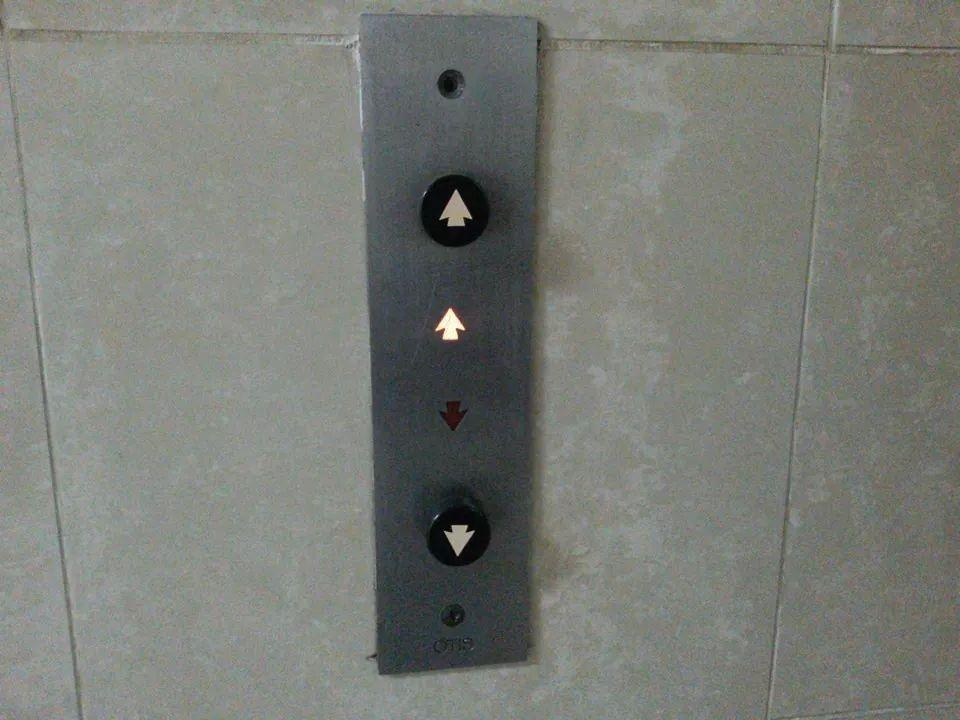down: (425, 496, 493, 570)
up: (416, 171, 492, 250)
